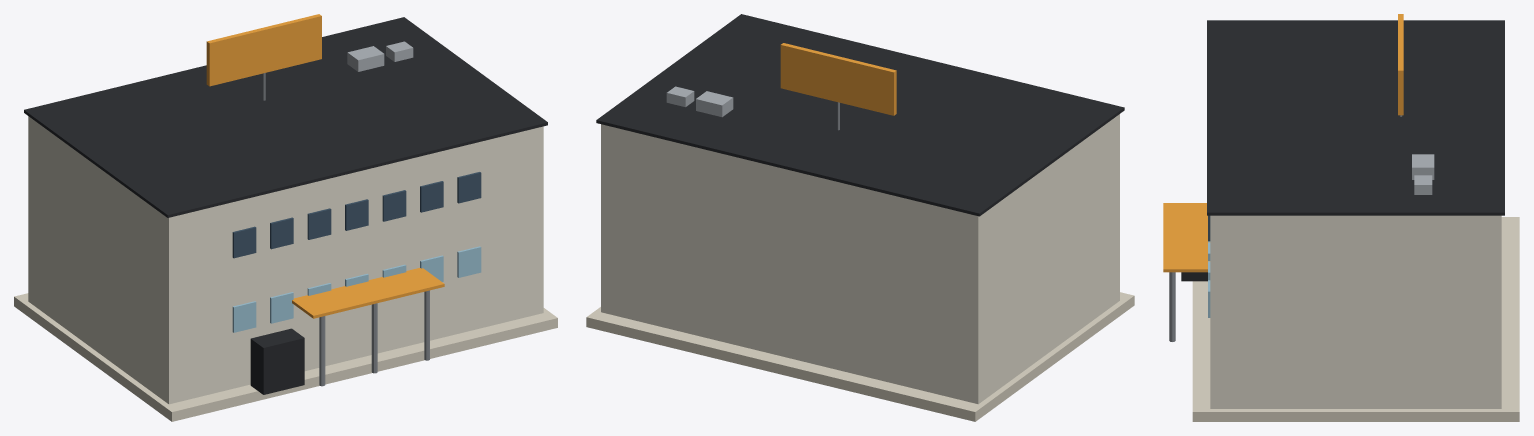
The model's file is building.movie-theater.glb.
3 renders of one model, left to right at view 1: azimuth 30°, elevation 25°; view 2: azimuth 150°, elevation 25°; view 3: azimuth 270°, elevation 25°, orthographic. The views are drawn at different scales.
Visible parts, largest first — view 1: building.movie-theater; view 2: building.movie-theater; view 3: building.movie-theater.
Part boxes in pixels (x1,y1,x2,y2): building.movie-theater: (14,14,557,421); building.movie-theater: (586,14,1134,421); building.movie-theater: (1163,14,1519,421).
Size of the model in its own units: 20.6 by 13.9 by 15.9.
